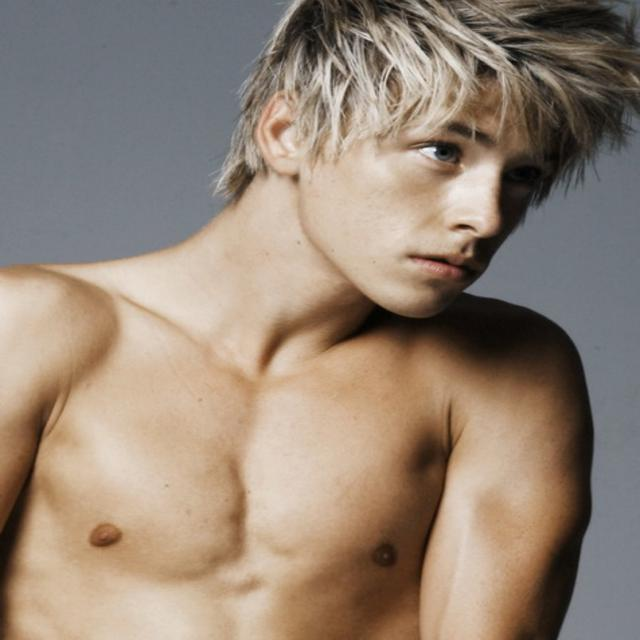closed-mouth: (412, 248, 484, 284)
